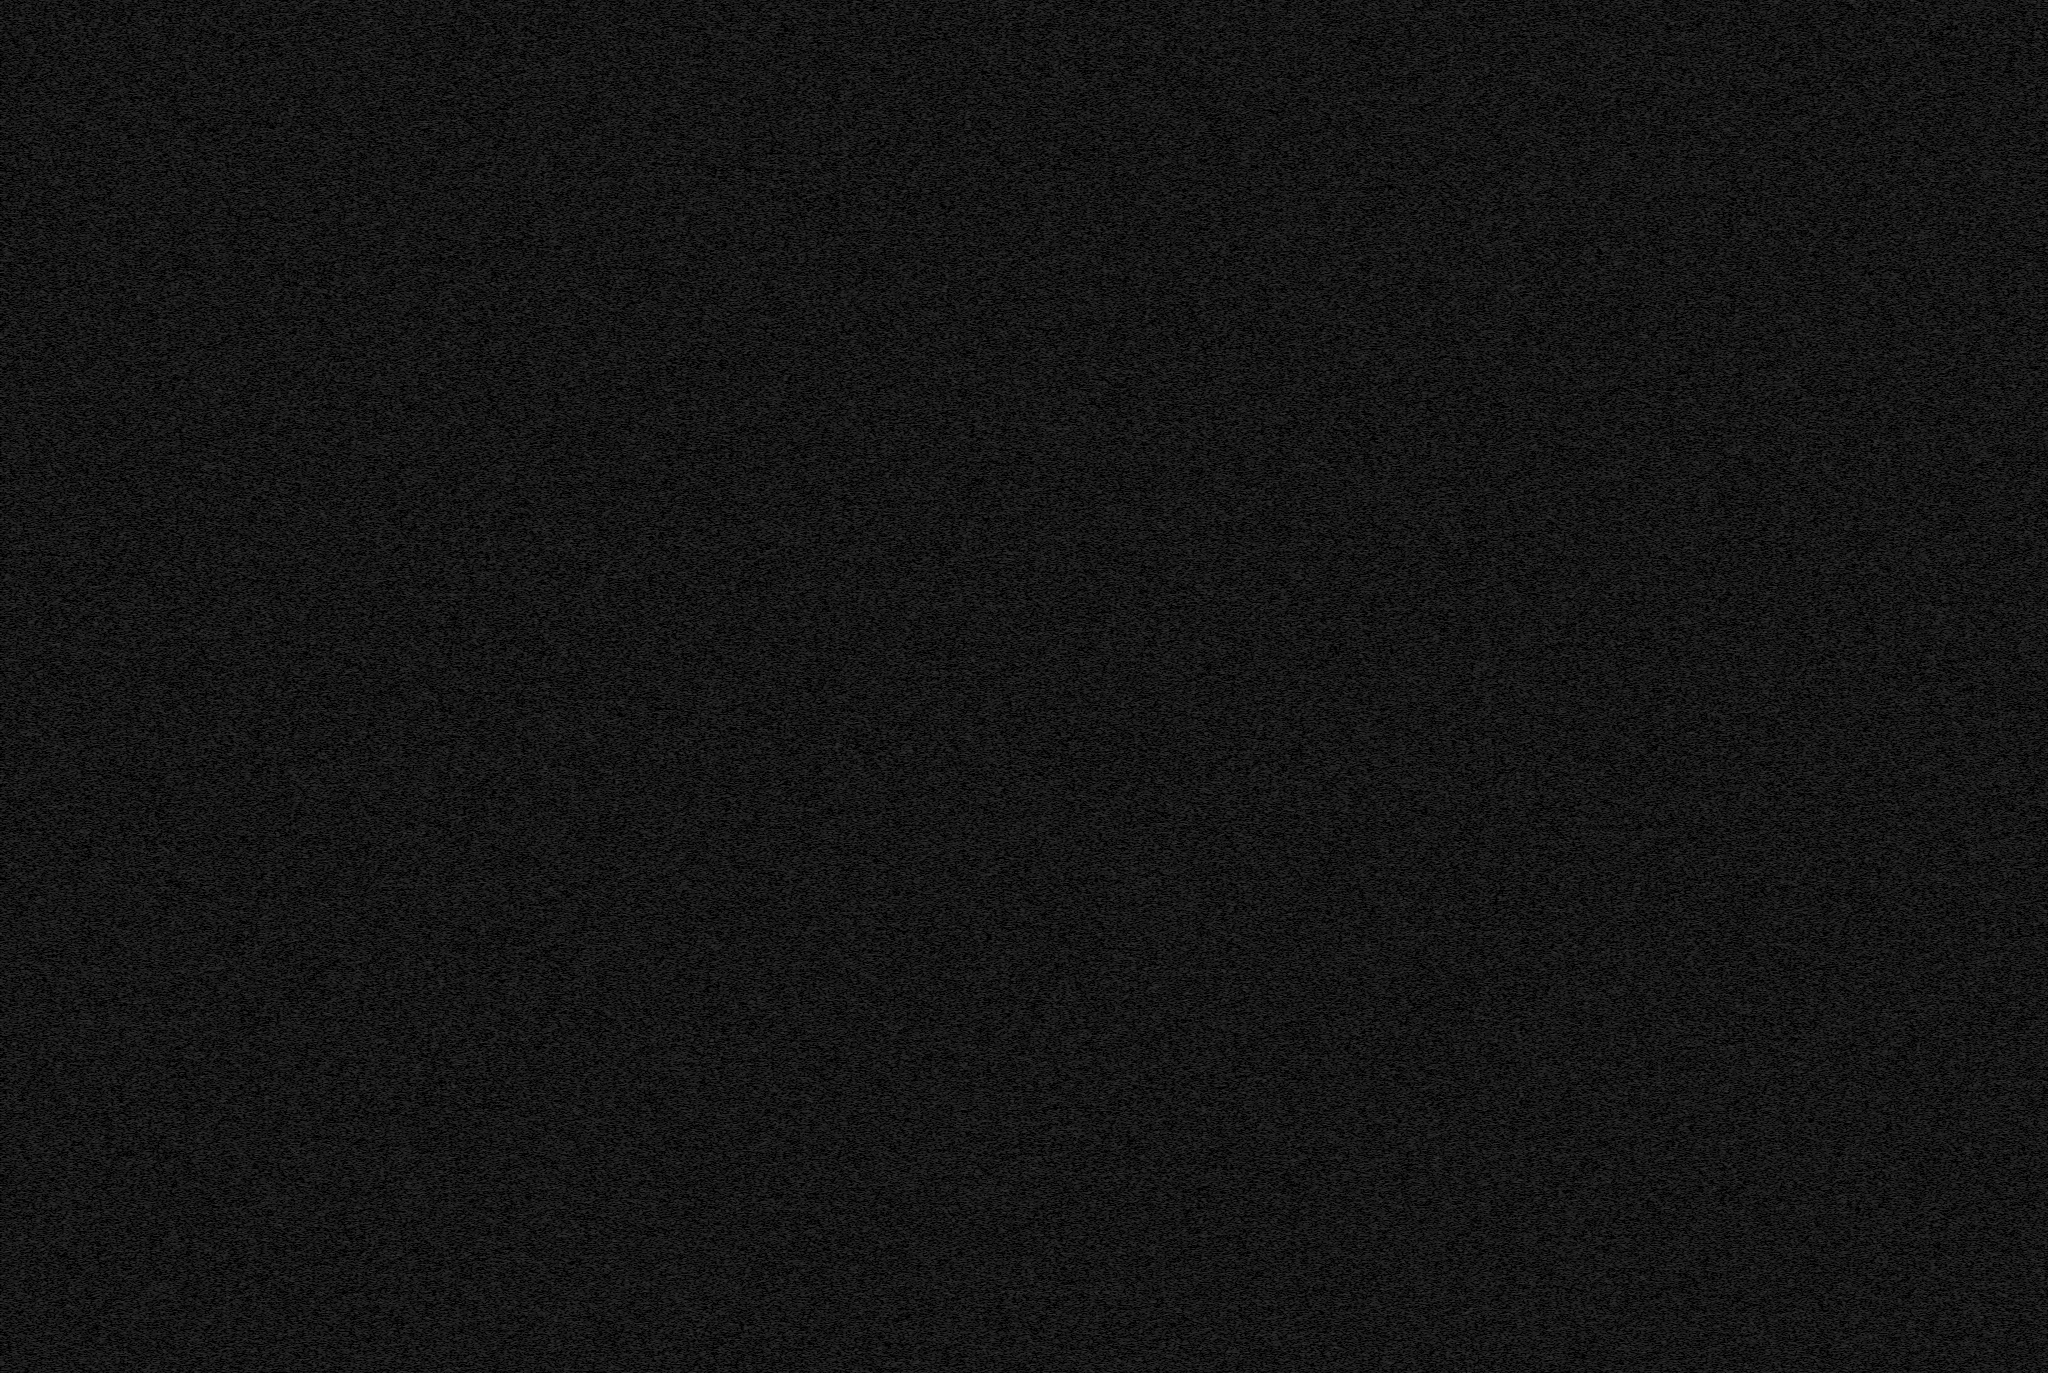wv_am: (156, 0, 162, 1371), (182, 0, 188, 1371)
wv_cw: (453, 0, 460, 1371), (288, 0, 294, 1371), (49, 0, 54, 1371)
wv_lsb: (35, 106, 40, 198), (35, 674, 40, 732), (35, 1290, 40, 1339), (35, 44, 40, 78), (35, 11, 40, 44), (35, 1175, 40, 1204), (35, 224, 40, 253), (37, 1025, 38, 1100), (35, 915, 40, 939), (35, 349, 40, 374), (35, 80, 40, 104), (35, 837, 40, 860), (35, 293, 40, 316), (35, 1243, 40, 1263), (35, 198, 40, 218), (35, 785, 40, 801), (35, 1227, 40, 1243), (35, 804, 40, 818), (35, 406, 40, 420), (35, 1358, 40, 1371), (35, 375, 40, 388), (35, 254, 40, 267), (35, 280, 40, 291), (35, 429, 38, 444), (37, 1148, 38, 1175), (35, 320, 38, 333), (35, 267, 38, 279), (37, 1103, 38, 1126), (37, 1004, 38, 1022), (35, 818, 38, 827), (37, 759, 38, 775), (35, 829, 40, 834), (35, 1283, 38, 1289), (37, 1264, 38, 1276), (37, 860, 38, 872), (37, 1137, 38, 1148), (37, 978, 38, 988), (37, 903, 38, 913), (37, 1129, 38, 1135), (37, 998, 38, 1004), (37, 955, 38, 961), (37, 777, 38, 783), (37, 743, 38, 749), (37, 421, 38, 428), (37, 336, 38, 342), (37, 1206, 38, 1211), (37, 990, 38, 995), (37, 972, 38, 976), (37, 892, 38, 896), (37, 752, 38, 757), (37, 734, 38, 739), (37, 1339, 38, 1342), (37, 1278, 38, 1281), (37, 899, 38, 903), (37, 883, 38, 886), (37, 880, 38, 883), (37, 873, 38, 877), (37, 388, 38, 391), (37, 316, 38, 319)
wv_usb: (470, 11, 476, 628), (470, 826, 476, 1022), (470, 628, 476, 824), (20, 187, 25, 366), (470, 1024, 476, 1146), (20, 634, 25, 742), (470, 1223, 476, 1301), (20, 1260, 25, 1364), (20, 469, 25, 565), (470, 1303, 476, 1371), (20, 388, 25, 467), (9, 1037, 14, 1111), (20, 910, 25, 979), (20, 570, 25, 614), (20, 1174, 25, 1218), (9, 1310, 14, 1345), (9, 1112, 14, 1145), (9, 208, 14, 241), (20, 774, 25, 803), (20, 823, 25, 850), (9, 6, 14, 29), (20, 1238, 25, 1260), (20, 366, 25, 386), (9, 523, 14, 542), (20, 752, 25, 772), (9, 1347, 14, 1365), (9, 570, 14, 588), (9, 501, 14, 519), (11, 924, 12, 978), (11, 841, 12, 895), (20, 1220, 25, 1237), (20, 804, 25, 821), (11, 708, 12, 754), (9, 544, 14, 559), (21, 92, 25, 113), (20, 854, 25, 867), (20, 880, 25, 892), (20, 175, 25, 185), (21, 619, 25, 633), (11, 1200, 12, 1227), (20, 742, 25, 751), (11, 1008, 12, 1034), (11, 979, 12, 1005), (11, 785, 12, 811), (21, 156, 25, 169), (11, 1174, 12, 1198), (11, 898, 12, 922), (11, 674, 12, 699), (11, 1260, 12, 1283), (11, 622, 12, 644), (21, 898, 25, 909), (21, 867, 25, 878), (11, 595, 12, 614), (21, 25, 25, 34), (21, 15, 25, 25), (11, 766, 12, 783), (11, 656, 12, 673), (21, 41, 25, 49), (21, 34, 25, 41), (11, 1241, 12, 1257), (11, 1158, 12, 1172), (11, 826, 12, 840), (21, 144, 25, 150), (21, 84, 25, 90), (21, 58, 25, 64), (21, 51, 25, 57), (11, 35, 12, 48), (21, 1365, 25, 1371), (21, 1093, 25, 1099), (21, 1021, 25, 1027), (21, 1008, 25, 1014), (11, 1298, 12, 1309), (21, 152, 25, 156), (21, 136, 25, 141), (21, 116, 25, 121), (21, 70, 25, 75), (11, 1287, 12, 1296), (11, 1230, 12, 1240), (11, 559, 12, 569), (11, 254, 12, 264), (11, 113, 12, 123), (11, 51, 14, 55), (21, 1044, 25, 1048), (21, 1034, 25, 1039), (21, 1004, 25, 1008), (21, 987, 25, 991), (11, 757, 12, 765), (11, 644, 12, 651), (11, 198, 12, 205), (21, 614, 25, 618), (21, 81, 25, 84), (11, 1365, 12, 1371), (11, 1152, 12, 1158), (11, 1146, 12, 1152), (11, 812, 12, 818), (11, 700, 12, 706), (11, 242, 12, 248), (21, 1168, 25, 1171), (21, 1158, 25, 1162), (21, 1140, 25, 1143), (21, 1114, 25, 1117), (21, 1056, 25, 1059), (21, 1030, 25, 1033), (21, 998, 25, 1001), (21, 993, 25, 996), (21, 981, 25, 984), (21, 893, 25, 896), (11, 590, 12, 595), (11, 287, 12, 291), (11, 132, 12, 136), (11, 63, 12, 67), (11, 31, 12, 35), (21, 11, 25, 12), (11, 821, 12, 824), (11, 614, 12, 618), (11, 193, 12, 196), (11, 150, 12, 153), (11, 139, 12, 143), (11, 87, 12, 90)
